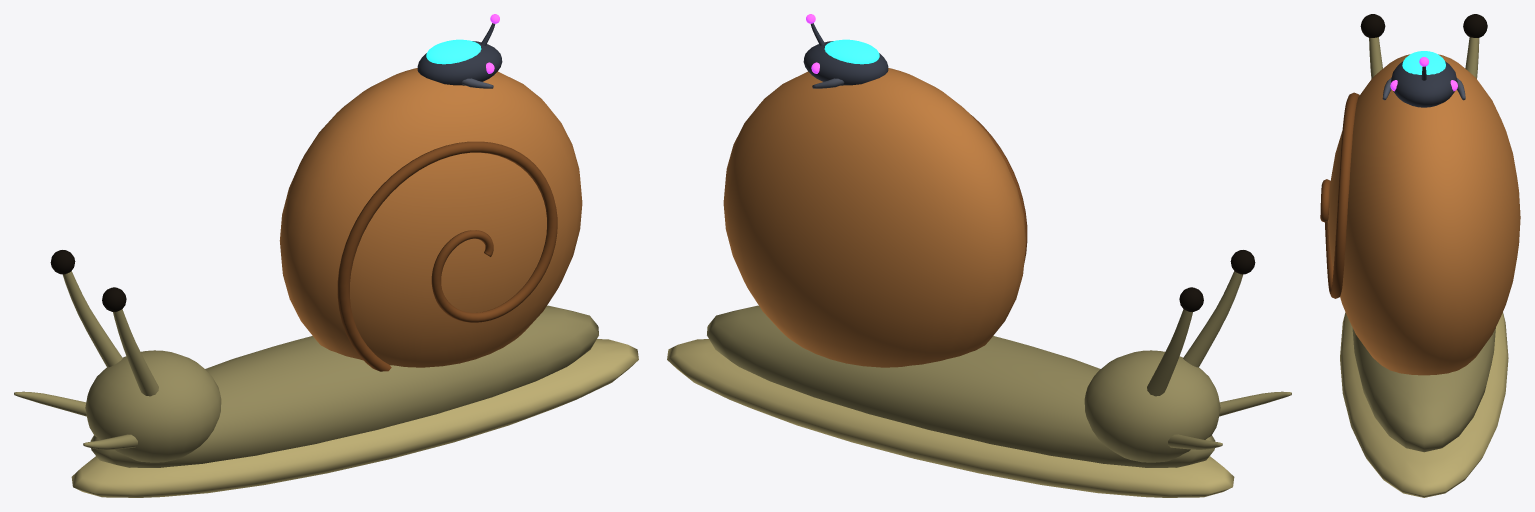
File: controlled_woodland_snail.glb
3 renders of one model, left to right at view 1: azimuth 30°, elevation 25°; view 2: azimuth 150°, elevation 25°; view 3: azimuth 270°, elevation 25°, orthographic.
Parts seen in each view (by area): view 1: Shell, Body, Foot, Head, NaturalShellSpiral, ControlShell, EyeStalk.001, EyeStalk, CyanLens, LowerTentacle.001; view 2: Shell, Body, Foot, Head, ControlShell, EyeStalk, EyeStalk.001, CyanLens, LowerTentacle; view 3: Shell, Foot, Body, NaturalShellSpiral, ControlShell, CyanLens, EyeTip.001, EyeTip, EyeStalk.001, EyeStalk.
Part boxes in pixels (left/top/right/bottom): Shell: left=279, top=68, right=582, bottom=367; Body: left=90, top=305, right=598, bottom=467; Foot: left=71, top=339, right=638, bottom=497; Head: left=85, top=350, right=221, bottom=462; NaturalShellSpiral: left=337, top=141, right=557, bottom=371; ControlShell: left=417, top=41, right=502, bottom=85; EyeStalk.001: left=62, top=271, right=122, bottom=367; EyeStalk: left=113, top=309, right=158, bottom=396; CyanLens: left=426, top=39, right=481, bottom=64; LowerTentacle.001: left=14, top=391, right=86, bottom=416; Shell: left=723, top=68, right=1026, bottom=367; Body: left=707, top=305, right=1215, bottom=467; Foot: left=667, top=339, right=1234, bottom=497; Head: left=1084, top=350, right=1220, bottom=462; ControlShell: left=803, top=41, right=888, bottom=85; EyeStalk: left=1183, top=271, right=1243, bottom=367; EyeStalk.001: left=1147, top=309, right=1192, bottom=396; CyanLens: left=824, top=39, right=879, bottom=64; LowerTentacle: left=1219, top=391, right=1291, bottom=416; Shell: left=1328, top=54, right=1520, bottom=375; Foot: left=1340, top=312, right=1508, bottom=497; Body: left=1352, top=327, right=1495, bottom=452; NaturalShellSpiral: left=1320, top=92, right=1359, bottom=298; ControlShell: left=1391, top=61, right=1457, bottom=107; CyanLens: left=1402, top=51, right=1445, bottom=74; EyeTip.001: left=1463, top=14, right=1487, bottom=37; EyeTip: left=1360, top=14, right=1385, bottom=37; EyeStalk.001: left=1465, top=37, right=1479, bottom=78; EyeStalk: left=1369, top=37, right=1382, bottom=78.
Bounding box in the file's own units: 2.25 × 1.45 × 0.6647.
